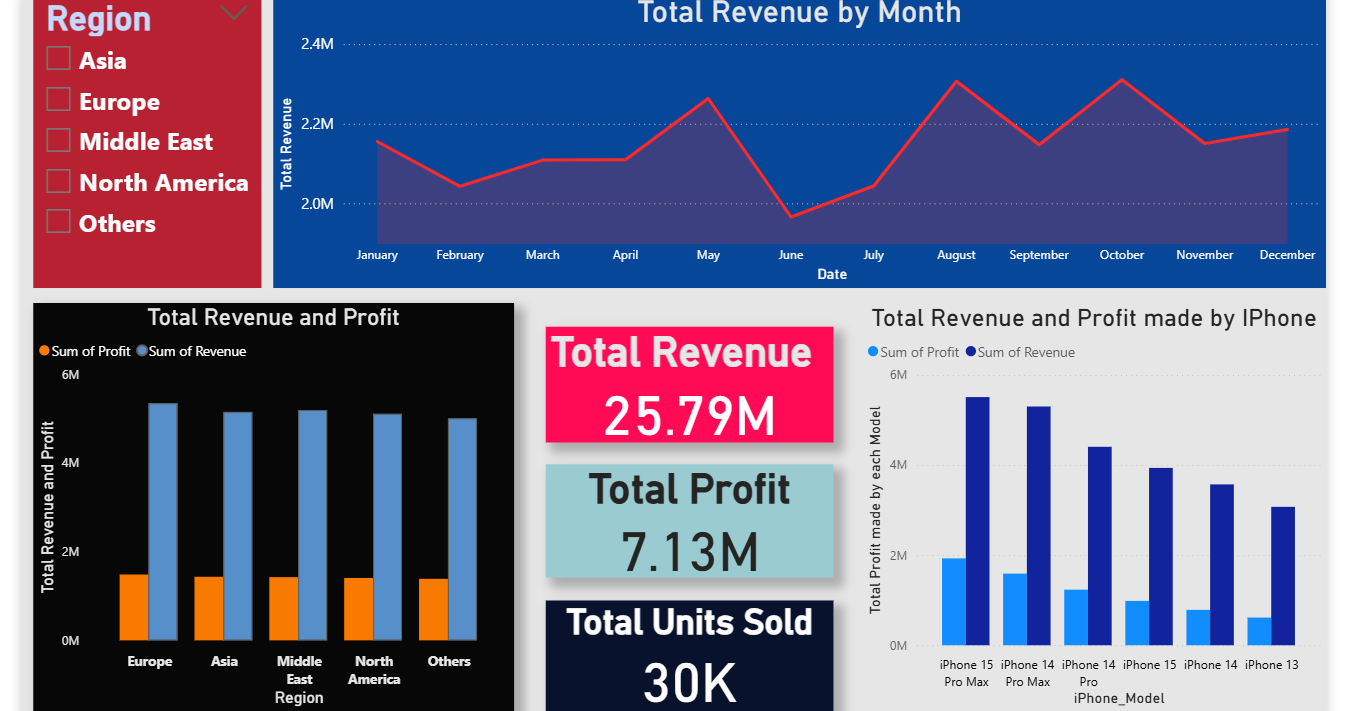

What the dashboard file says about the page in this screenshot:
{"tool":"powerbi","page":{"name":"Page 1","canvas":[1280,720],"ordinal":0},"visuals":[{"type":"card","title":"Total Revenue","fields":{"Values":["Sum(iphone_sales sales_data.Revenue)"]},"box":[514.6,328,282.7,113.9],"z":0},{"type":"card","title":"Total Profit","fields":{"Values":["Sum(iphone_sales sales_data.Profit)"]},"box":[514.6,462.4,282.7,111.1],"z":1000},{"type":"card","title":"Total Units Sold","fields":{"Values":["Sum(iphone_sales sales_data.Units_Sold)"]},"box":[514.6,596.9,282.7,108.4],"z":2000},{"type":"clusteredColumnChart","title":"Total Revenue and Profit","fields":{"Category":["iphone_sales sales_data.Region"],"Y":["Sum(iphone_sales sales_data.Profit)","Sum(iphone_sales sales_data.Revenue)"]},"box":[11,304.6,472,400.7],"z":3000},{"type":"clusteredColumnChart","title":"Total Revenue and Profit made by IPhone","fields":{"Category":["iphone_sales sales_data.iPhone_Model"],"Y":["Sum(iphone_sales sales_data.Profit)","Sum(iphone_sales sales_data.Revenue)"]},"box":[824.7,304.6,455.6,400.7],"z":4000},{"type":"lineChart","title":"Total Revenue by Month","fields":{"Category":["iphone_sales sales_data.Date.Variation.Date Hierarchy.Month"],"Y":["Sum(iphone_sales sales_data.Revenue)"]},"box":[247,0,1033.3,289.5],"z":5000},{"type":"slicer","fields":{"Values":["iphone_sales sales_data.Region"]},"box":[11,0,223.7,289.5],"z":6000}]}

Visuals, with their boxes on the page's 1280x720 design canvas (x1, y1, x2, y2). These are canvas units, not pixel positions in the 1353x711 screenshot, which may show the page scaled, cropped or inside an application window:
"Total Revenue" card: {"left": 515, "top": 328, "right": 797, "bottom": 442}
"Total Profit" card: {"left": 515, "top": 462, "right": 797, "bottom": 574}
"Total Units Sold" card: {"left": 515, "top": 597, "right": 797, "bottom": 705}
"Total Revenue and Profit" clusteredColumnChart: {"left": 11, "top": 305, "right": 483, "bottom": 705}
"Total Revenue and Profit made by IPhone" clusteredColumnChart: {"left": 825, "top": 305, "right": 1280, "bottom": 705}
"Total Revenue by Month" lineChart: {"left": 247, "top": 0, "right": 1280, "bottom": 290}
slicer - iphone_sales sales_data.Region: {"left": 11, "top": 0, "right": 235, "bottom": 290}
